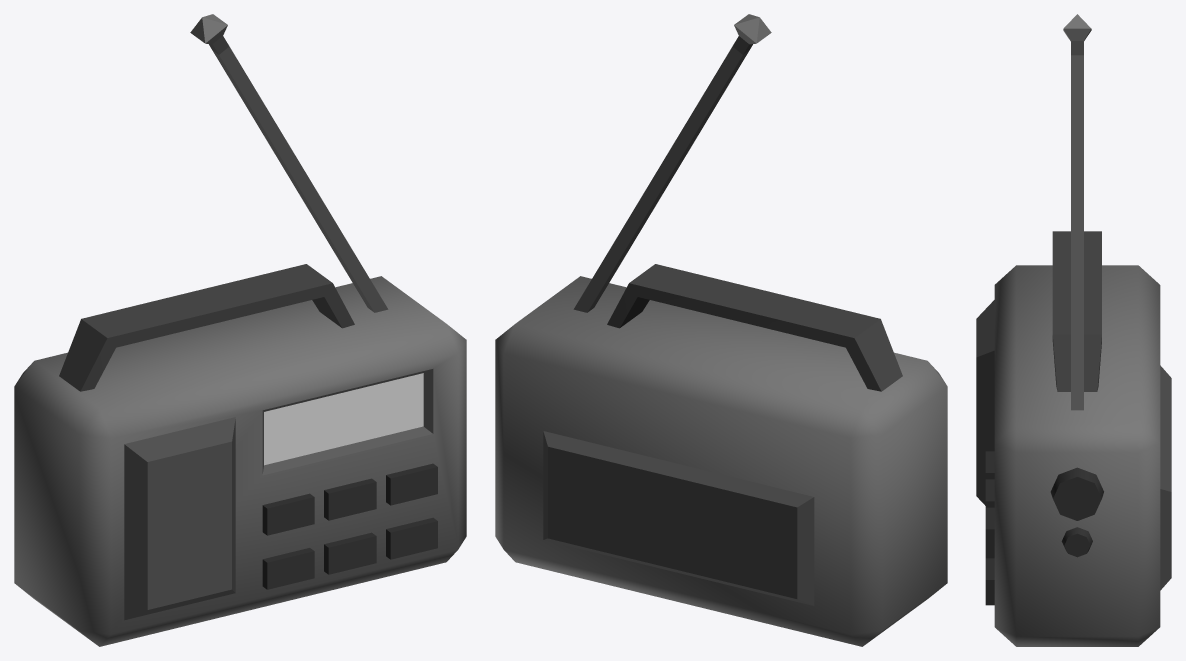
Rendered from BoomBox.fbx.
3 views of the same model, side by side, from view 1: azimuth 30°, elevation 25°; view 2: azimuth 150°, elevation 25°; view 3: azimuth 270°, elevation 25° (orthographic). The views are drawn at different scales.
Visible parts, largest first — view 1: Boombox; view 2: Boombox; view 3: Boombox.
Part boxes in pixels (left/top/right/bottom): Boombox: left=14, top=14, right=466, bottom=646; Boombox: left=495, top=14, right=947, bottom=646; Boombox: left=976, top=14, right=1171, bottom=646.
Bounding box in the file's own units: 0.4794 × 0.6511 × 0.2151.
